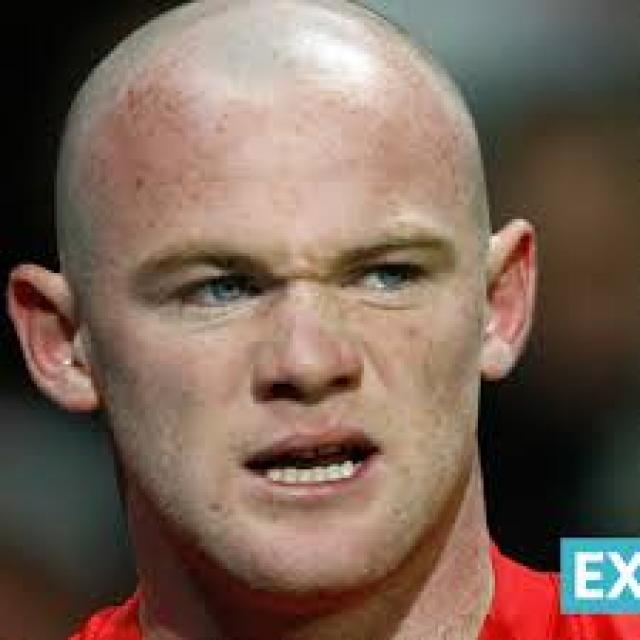bald: (10, 0, 539, 313)
